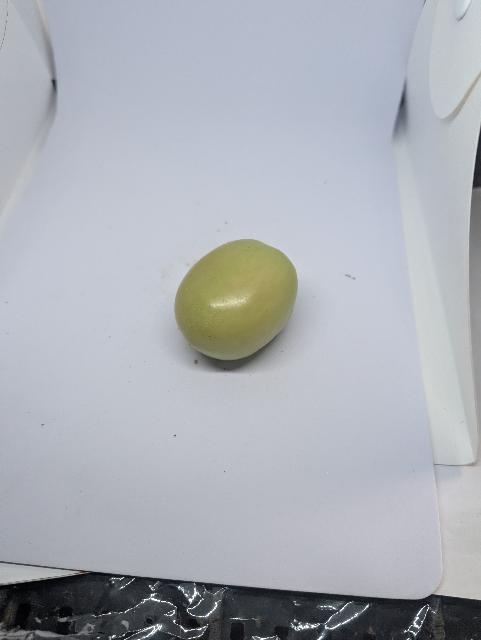green: (172, 236, 300, 364)
